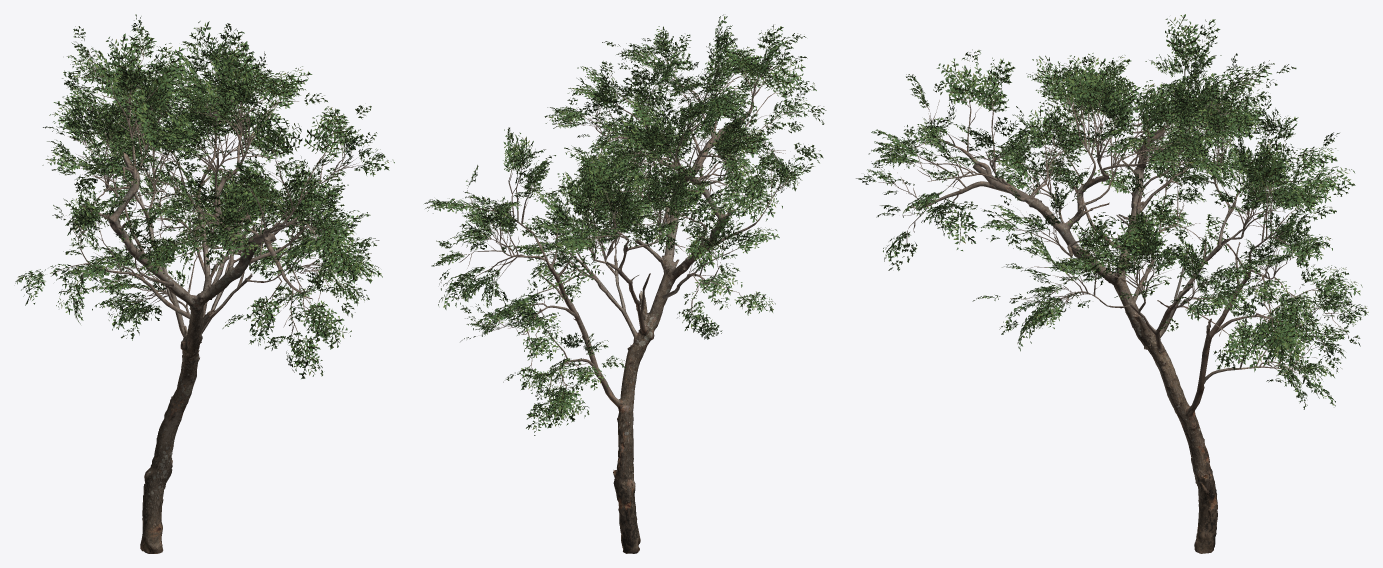
The model's file is mature-tree-lod1.gltf.
3 renders of one model, left to right at view 1: azimuth 30°, elevation 25°; view 2: azimuth 150°, elevation 25°; view 3: azimuth 270°, elevation 25°, orthographic. The views are drawn at different scales.
Parts seen in each view (by area): view 1: tree_small_02_LOD0; view 2: tree_small_02_LOD0; view 3: tree_small_02_LOD0.
Boxes of the visible parts, x1=… form: tree_small_02_LOD0: x1=15, y1=14, x2=394, y2=553; tree_small_02_LOD0: x1=424, y1=14, x2=826, y2=553; tree_small_02_LOD0: x1=856, y1=14, x2=1368, y2=553.
Size of the model in its own units: 2.91 by 4.56 by 4.26.
Materials: 3 (3 with a texture image).
